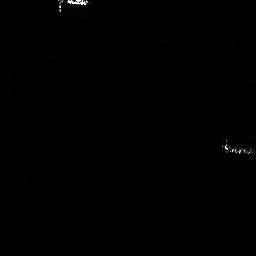ship: (219, 136, 256, 155), (55, 1, 90, 14)
